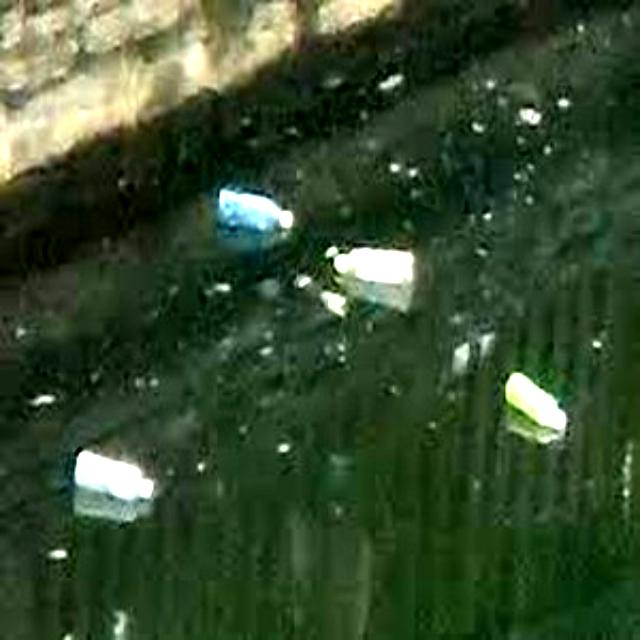Plastic: (502, 362, 574, 436), (74, 448, 158, 510), (217, 184, 299, 238), (332, 243, 416, 289)
